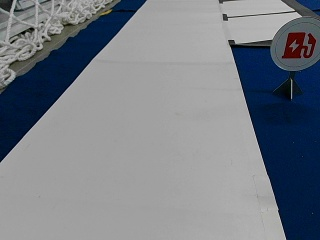battery: (271, 14, 318, 71)
